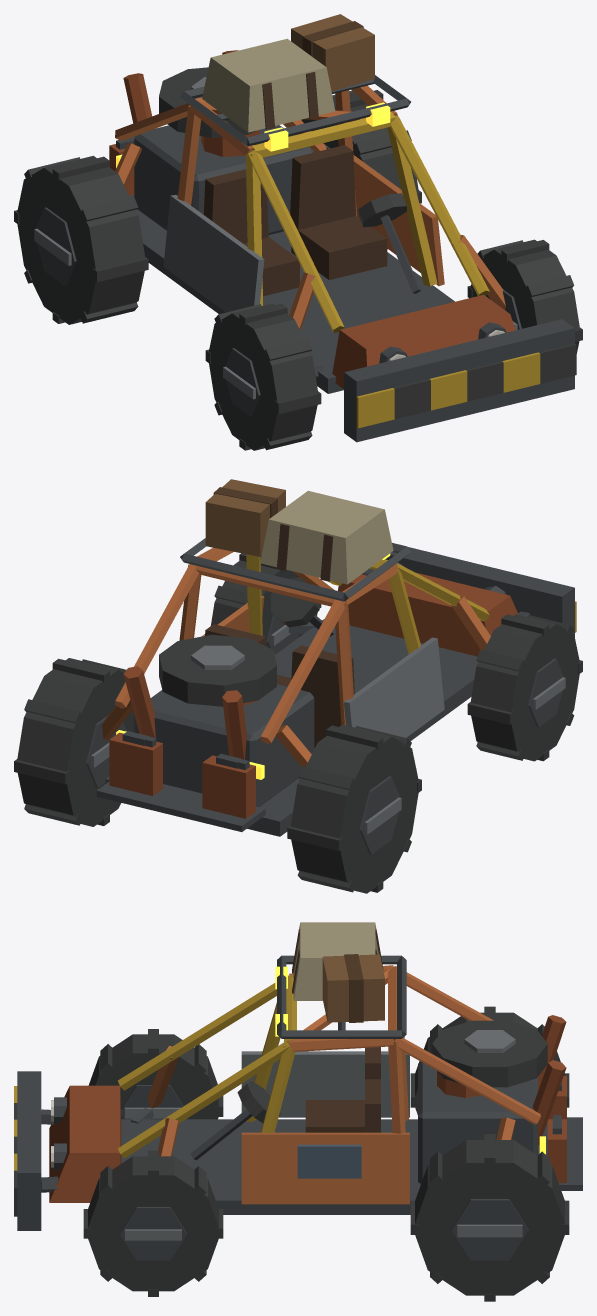
The model's file is vehicle_buggy_l3.glb.
3 views of the same model, one above another, from view 1: azimuth 30°, elevation 25°; view 2: azimuth 150°, elevation 25°; view 3: azimuth 270°, elevation 25° (orthographic). The views are drawn at different scales.
Visible parts, largest first — view 1: body, wheel_rr, wheel_fr, wheel_fl, wheel_rl; view 2: body, wheel_rr, wheel_rl, wheel_fr, wheel_fl; view 3: body, wheel_rl, wheel_fl, wheel_fr, wheel_rr.
Boxes of the visible parts, bbox=[...] form: body: bbox=[109, 14, 576, 442]; wheel_rr: bbox=[14, 155, 148, 324]; wheel_fr: bbox=[205, 303, 321, 450]; wheel_fl: bbox=[467, 239, 582, 353]; wheel_rl: bbox=[301, 90, 421, 249]; body: bbox=[96, 479, 576, 836]; wheel_rr: bbox=[287, 724, 421, 893]; wheel_rl: bbox=[14, 658, 134, 826]; wheel_fr: bbox=[467, 614, 582, 761]; wheel_fl: bbox=[211, 553, 321, 654]; body: bbox=[14, 922, 582, 1230]; wheel_rl: bbox=[410, 1134, 569, 1301]; wheel_fl: bbox=[83, 1150, 223, 1296]; wheel_fr: bbox=[88, 1029, 223, 1119]; wheel_rr: bbox=[410, 1006, 569, 1114].
Size of the model in its own units: 2.29 by 1.92 by 3.55.
